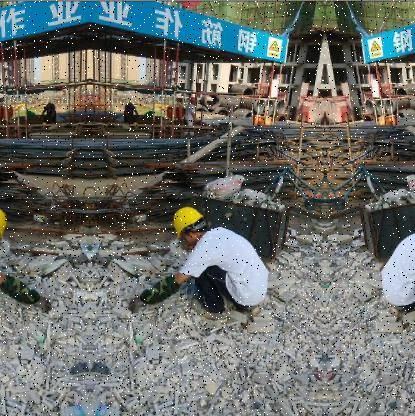helmet: (171, 201, 211, 247), (2, 201, 11, 248)
